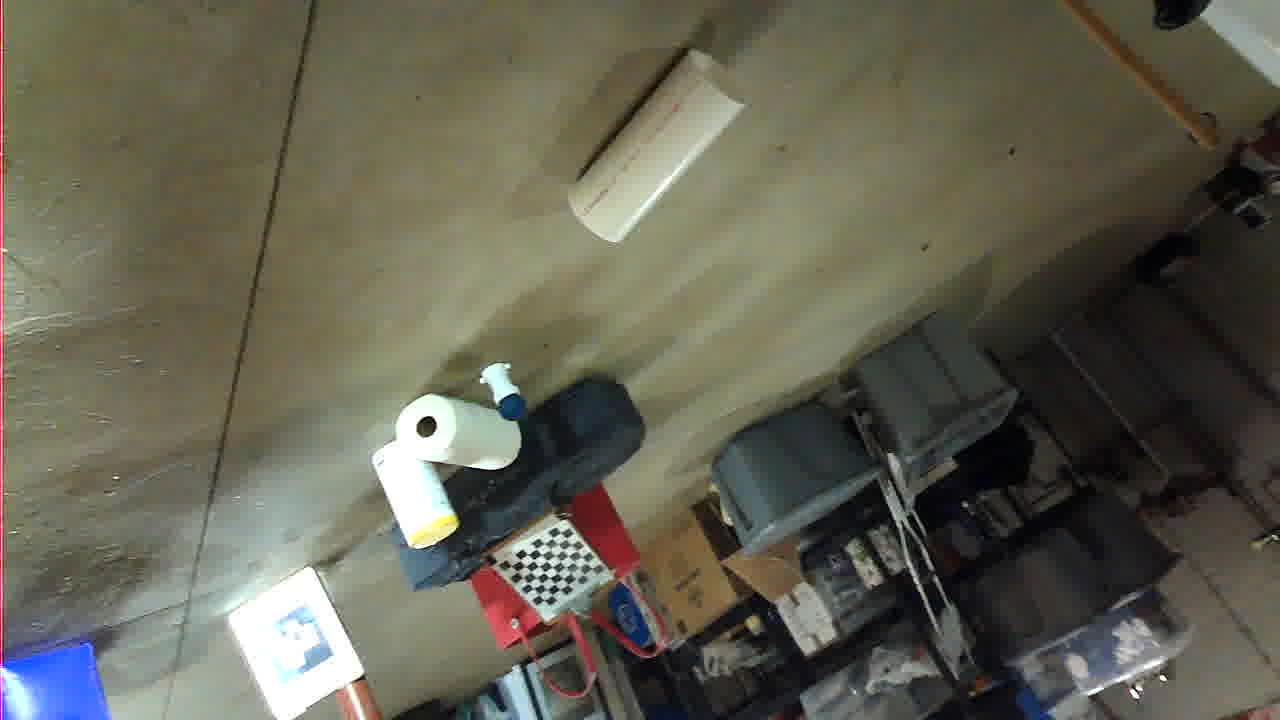coral: (540, 480, 697, 669)
